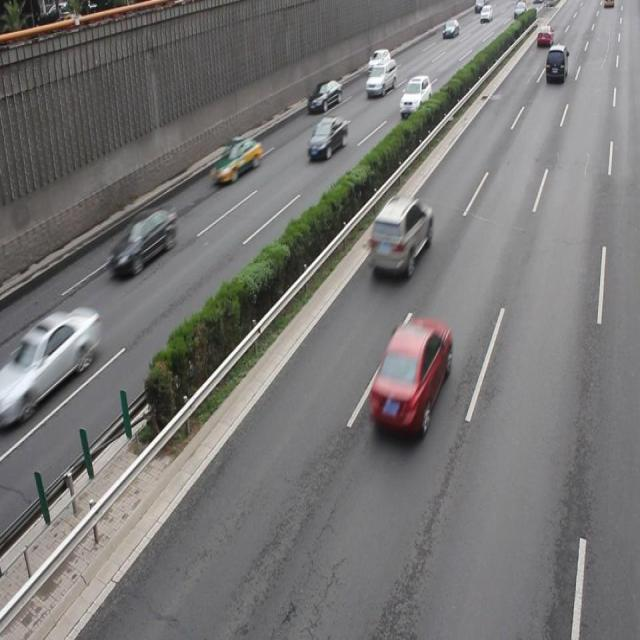car: (0, 305, 99, 417), (369, 316, 451, 438), (368, 193, 432, 280), (108, 206, 176, 278), (210, 134, 261, 182), (307, 116, 347, 160), (398, 74, 432, 120), (305, 76, 342, 115)
